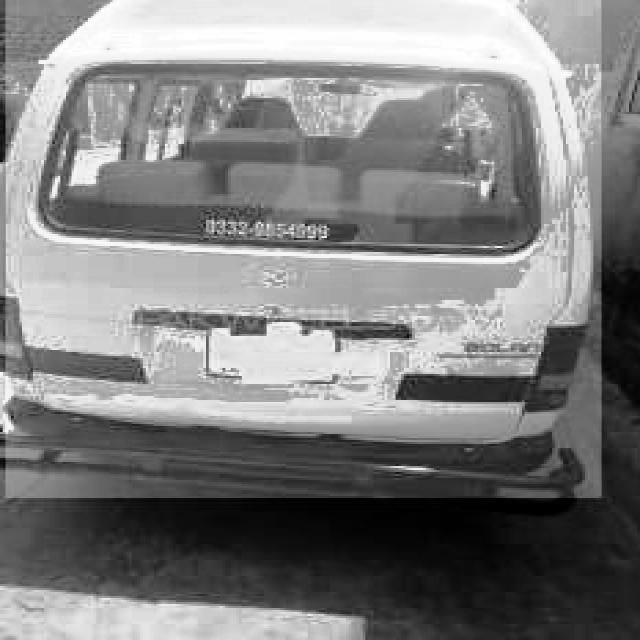LCV: (2, 0, 602, 500)
